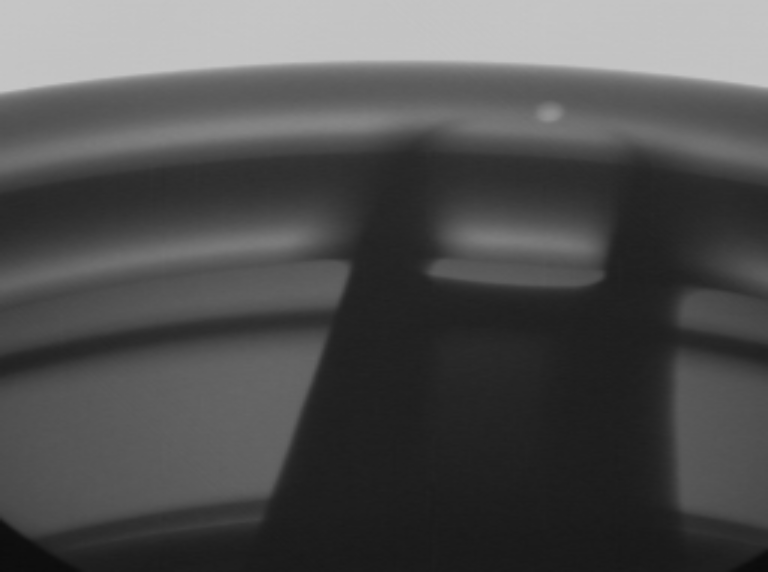defect: (531, 96, 582, 132)
